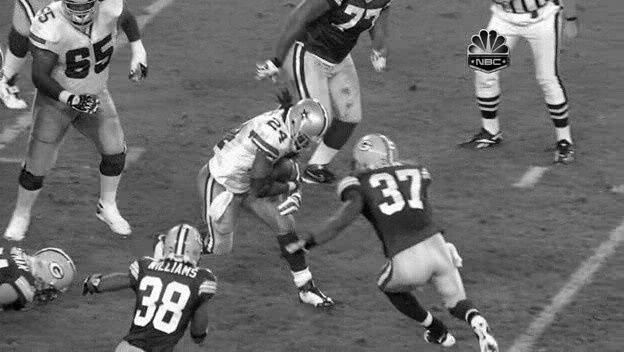person: (288, 104, 323, 149), (287, 104, 322, 149), (289, 104, 324, 149), (288, 103, 323, 148), (288, 105, 323, 150)
target_negative: (386, 313, 607, 348), (328, 219, 550, 242), (463, 119, 523, 169), (191, 293, 249, 325), (601, 57, 612, 165), (395, 224, 610, 227)
